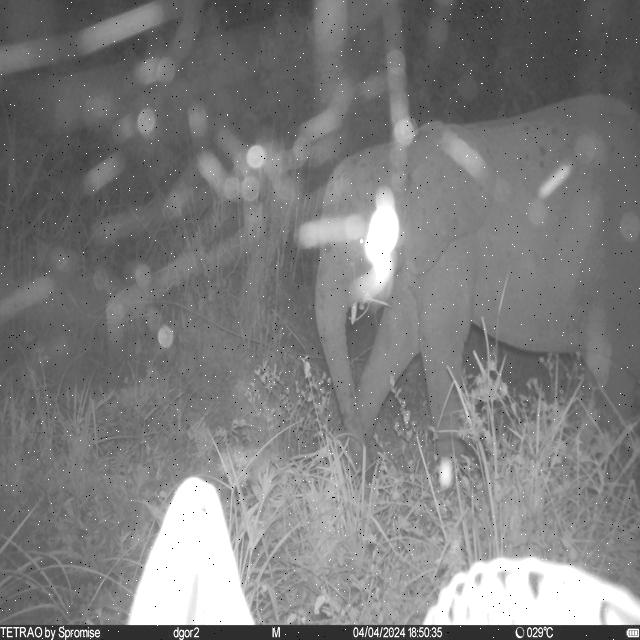calf: (316, 92, 640, 470)
ear: (396, 120, 499, 278)
tusk: (350, 302, 361, 331)
